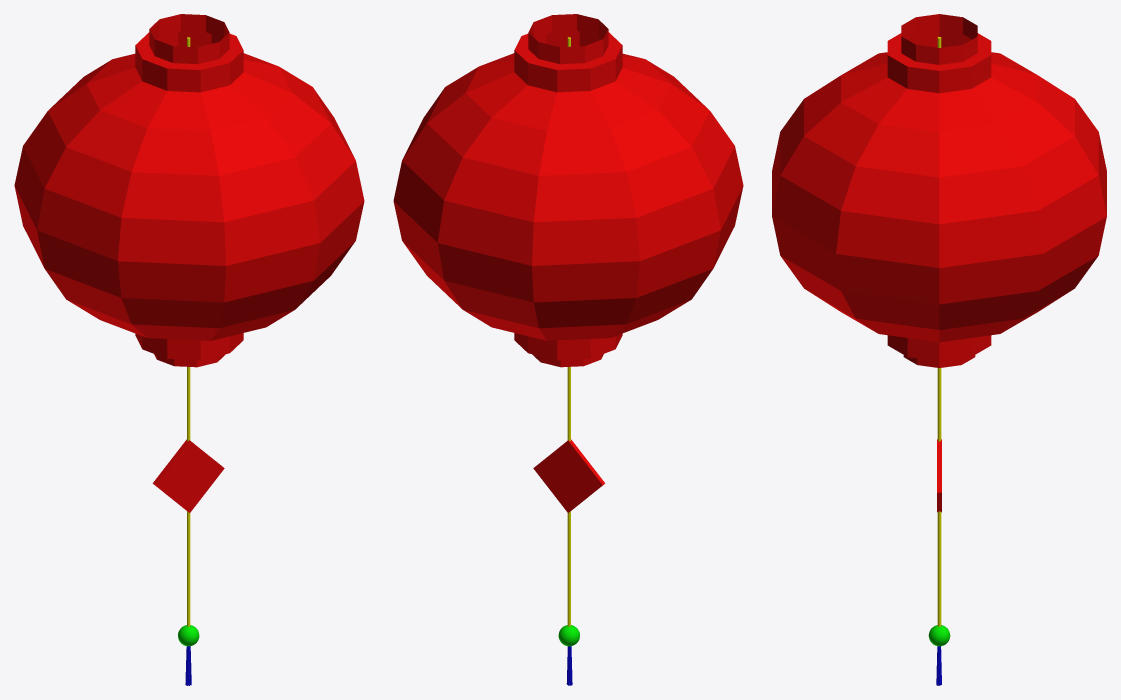
The model's file is lampLow.fbx.
3 views of the same model, side by side, from view 1: azimuth 30°, elevation 25°; view 2: azimuth 150°, elevation 25°; view 3: azimuth 270°, elevation 25° (orthographic).
Parts seen in each view (by area): view 1: pSphere3, pCube1, pCylinder1; view 2: pSphere3, pCube1, pCylinder1; view 3: pSphere3, pCylinder1.
Part boxes in pixels (x1=…): pSphere3: x1=14, y1=14, x2=364, y2=367; pCube1: x1=152, y1=439, x2=224, y2=512; pCylinder1: x1=187, y1=37, x2=190, y2=626; pSphere3: x1=393, y1=14, x2=743, y2=367; pCube1: x1=533, y1=439, x2=605, y2=512; pCylinder1: x1=567, y1=37, x2=570, y2=626; pSphere3: x1=772, y1=14, x2=1106, y2=367; pCylinder1: x1=937, y1=37, x2=941, y2=626.
Size of the model in its own units: 6.19 by 12.68 by 5.89.
